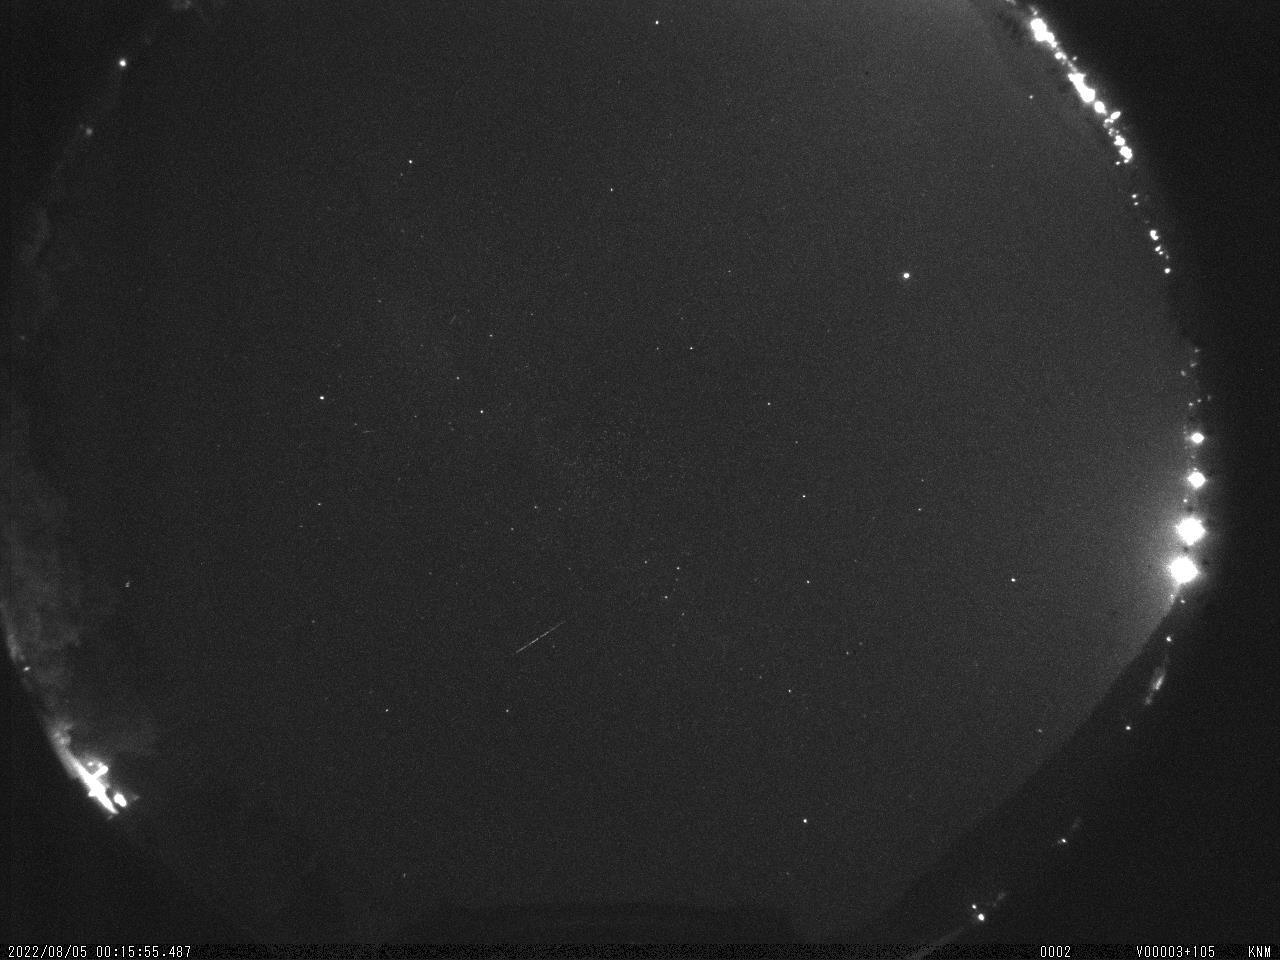Meteor: (508, 613, 574, 663)
